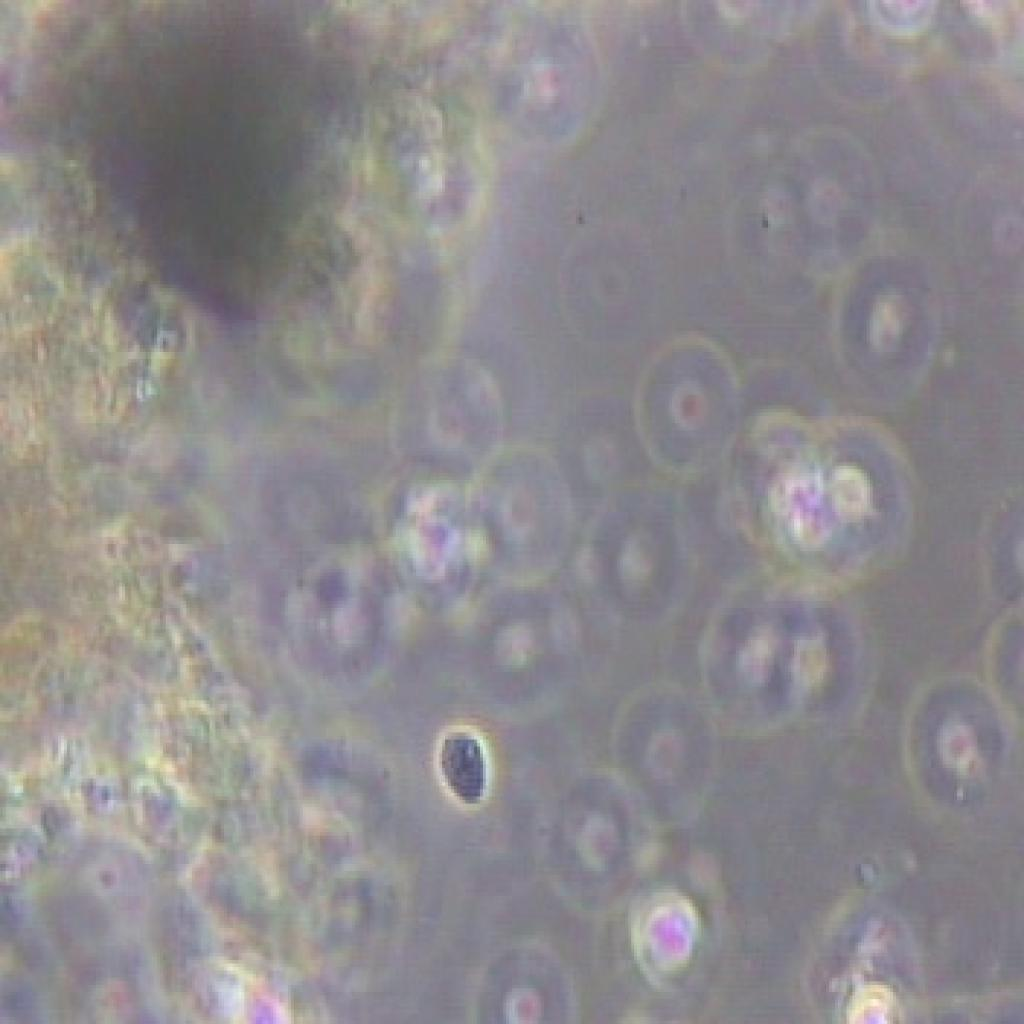Flagellates: (442, 702, 506, 838)
